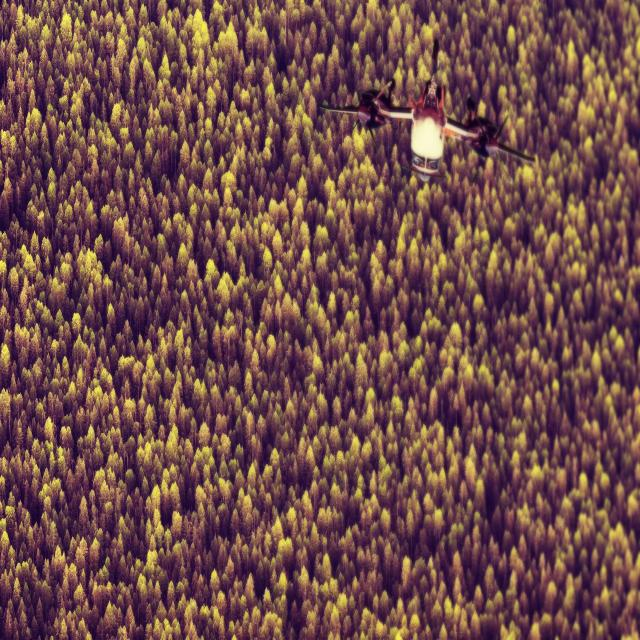airplane: (318, 36, 535, 182)
